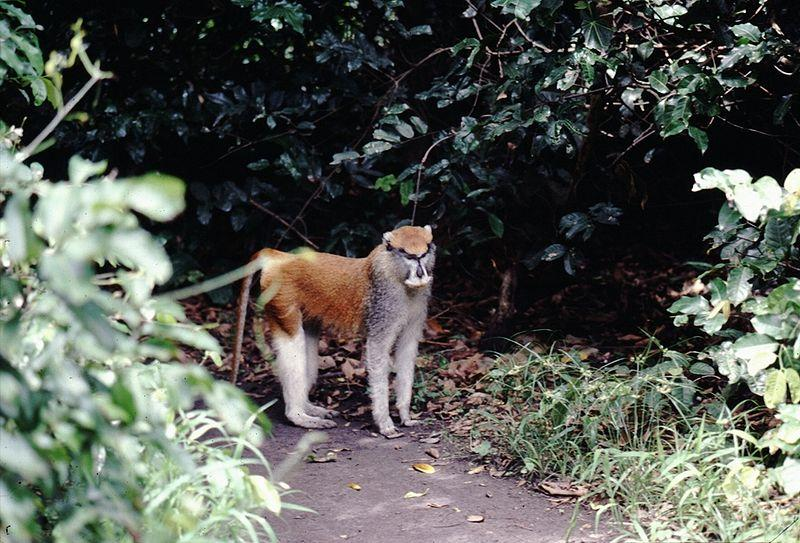monkey: (180, 225, 437, 436)
